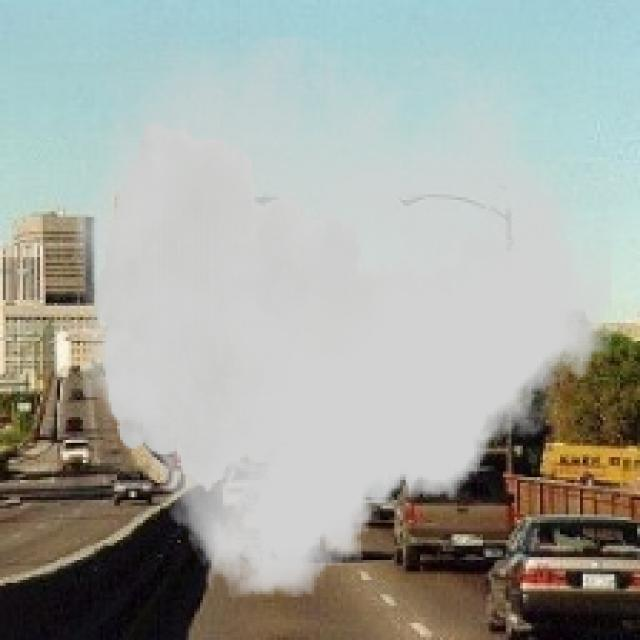smoke: (71, 37, 612, 597)
